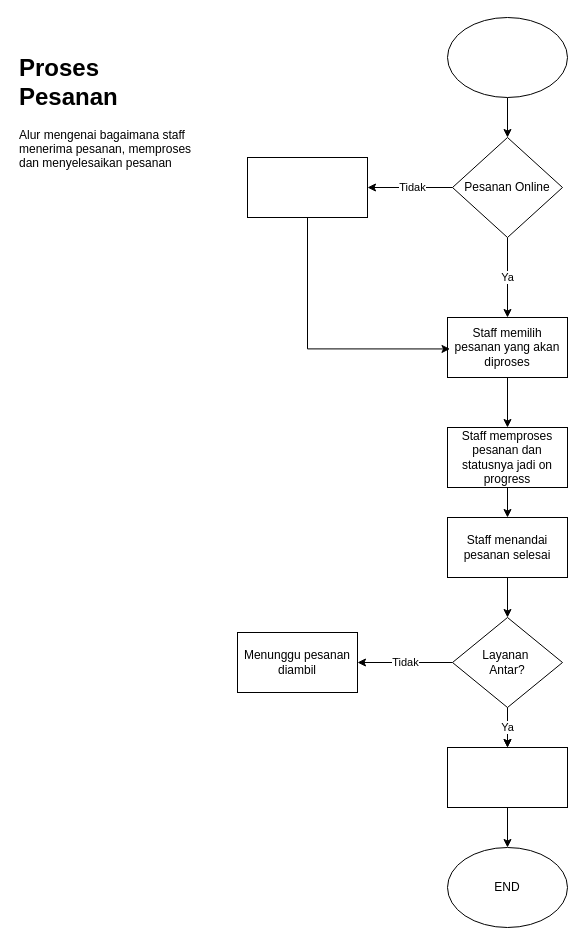
This 585x945 diagram has some shape labels left out. The centre of each missing label's shape, as x and y in pixels:
"Pesanan dikirim ke pelanggan" goes at pixel 507 777.
"Staff mencatat pesanan" goes at pixel 307 187.
"START" goes at pixel 507 57.
